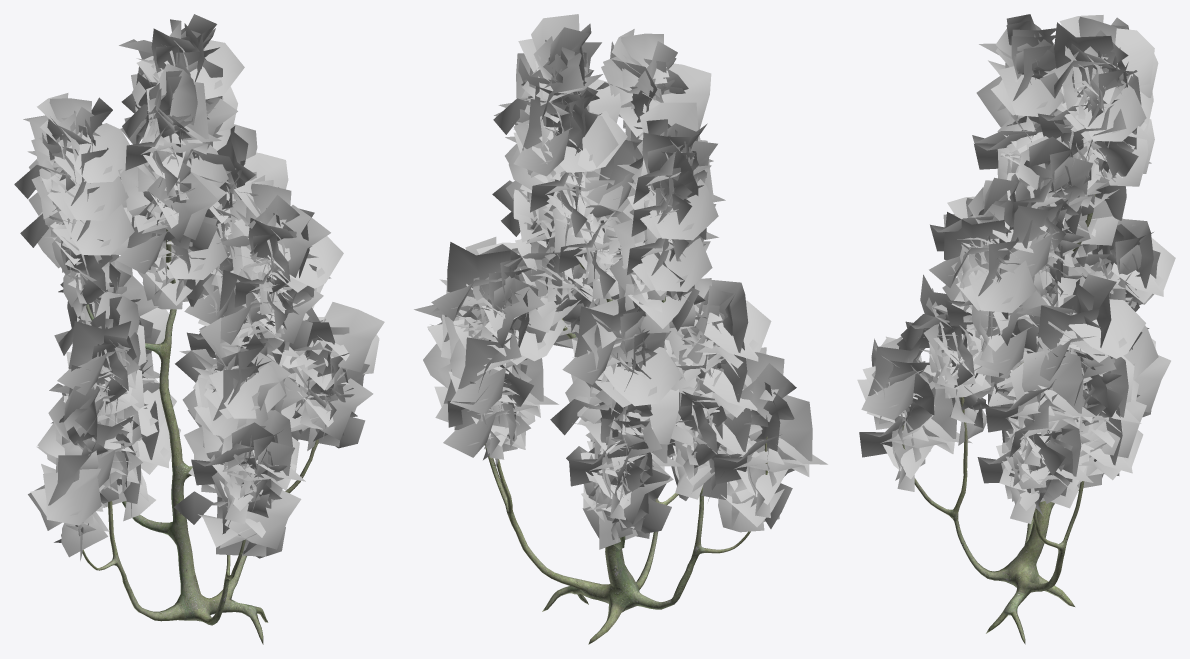
Rendered from tree4.fbx.
3 renders of one model, left to right at view 1: azimuth 30°, elevation 25°; view 2: azimuth 150°, elevation 25°; view 3: azimuth 270°, elevation 25°, orthographic. The views are drawn at different scales.
Parts seen in each view (by area): view 1: tree4, tree4|branch4-3|Dupli|78, tree4|branch4-3|Dupli|30, tree4|branch4-3|Dupli|138, tree4|branch4-3|Dupli|147, tree4|branch4-1|Dupli|23, tree4|branch4-3|Dupli|48, tree4|branch4-3|Dupli|42, tree4|branch4-3|Dupli|99, tree4|branch4-3|Dupli|93, tree4|branch4-3|Dupli|63, tree4|branch4-3|Dupli|15 (+62 smaller); view 2: tree4, tree4|branch4-3|Dupli|30, tree4|branch4-3|Dupli|42, tree4|branch4-3|Dupli|21, tree4|branch4-3|Dupli|36, tree4|branch4-1|Dupli|23, tree4|branch4-1|Dupli|29, tree4|branch4-3|Dupli|33, tree4|branch4-3|Dupli|51, tree4|branch4-3|Dupli|99, tree4|branch4-3|Dupli|39, tree4|branch4-3|Dupli|75 (+54 smaller); view 3: tree4, tree4|branch4-3|Dupli|63, tree4|branch4-3|Dupli|36, tree4|branch4-3|Dupli|78, tree4|branch4-3|Dupli|15, tree4|branch4-3|Dupli|99, tree4|branch4-1|Dupli|50, tree4|branch4-3|Dupli|117, tree4|branch4-3|Dupli|39, tree4|branch4-3|Dupli|138, tree4|branch4-3|Dupli|102, tree4|branch4-3|Dupli|60 (+49 smaller).
Part boxes in pixels (left/top/right/bottom): tree4: left=82, top=229, right=318, bottom=644; tree4|branch4-3|Dupli|78: left=174, top=454, right=301, bottom=558; tree4|branch4-3|Dupli|30: left=28, top=443, right=106, bottom=532; tree4|branch4-3|Dupli|138: left=191, top=410, right=305, bottom=523; tree4|branch4-3|Dupli|147: left=179, top=334, right=285, bottom=418; tree4|branch4-1|Dupli|23: left=37, top=384, right=107, bottom=472; tree4|branch4-3|Dupli|48: left=281, top=367, right=373, bottom=448; tree4|branch4-3|Dupli|42: left=57, top=321, right=146, bottom=406; tree4|branch4-3|Dupli|99: left=125, top=82, right=221, bottom=196; tree4|branch4-3|Dupli|93: left=23, top=97, right=129, bottom=183; tree4|branch4-3|Dupli|63: left=295, top=302, right=384, bottom=372; tree4|branch4-3|Dupli|15: left=119, top=14, right=244, bottom=107; tree4: left=484, top=263, right=767, bottom=644; tree4|branch4-3|Dupli|30: left=714, top=395, right=827, bottom=517; tree4|branch4-3|Dupli|42: left=670, top=280, right=771, bottom=394; tree4|branch4-3|Dupli|21: left=556, top=330, right=682, bottom=423; tree4|branch4-3|Dupli|36: left=431, top=242, right=519, bottom=327; tree4|branch4-1|Dupli|23: left=723, top=347, right=796, bottom=451; tree4|branch4-1|Dupli|29: left=603, top=29, right=688, bottom=122; tree4|branch4-3|Dupli|33: left=609, top=217, right=712, bottom=299; tree4|branch4-3|Dupli|51: left=449, top=337, right=531, bottom=423; tree4|branch4-3|Dupli|99: left=596, top=41, right=711, bottom=140; tree4|branch4-3|Dupli|39: left=562, top=306, right=650, bottom=384; tree4|branch4-3|Dupli|75: left=550, top=379, right=678, bottom=459; tree4: left=902, top=194, right=1095, bottom=644; tree4|branch4-3|Dupli|63: left=985, top=349, right=1097, bottom=466; tree4|branch4-3|Dupli|36: left=1016, top=274, right=1145, bottom=362; tree4|branch4-3|Dupli|78: left=859, top=374, right=972, bottom=491; tree4|branch4-3|Dupli|15: left=1040, top=22, right=1154, bottom=104; tree4|branch4-3|Dupli|99: left=976, top=35, right=1062, bottom=127; tree4|branch4-1|Dupli|50: left=1017, top=136, right=1093, bottom=232; tree4|branch4-3|Dupli|117: left=942, top=237, right=1035, bottom=322; tree4|branch4-3|Dupli|39: left=1073, top=219, right=1175, bottom=303; tree4|branch4-3|Dupli|138: left=857, top=336, right=935, bottom=425; tree4|branch4-3|Dupli|102: left=1044, top=60, right=1146, bottom=141; tree4|branch4-3|Dupli|60: left=998, top=199, right=1075, bottom=287.
Size of the model in its own units: 2946 by 4674 by 2248.
